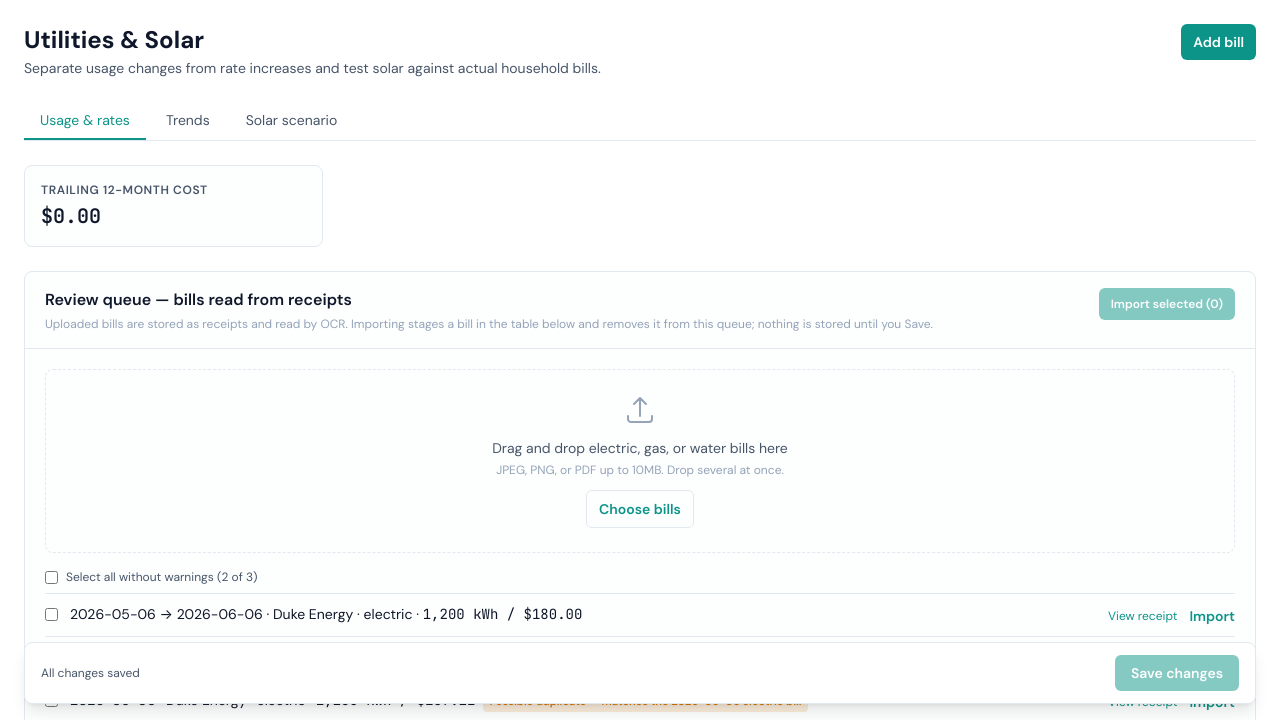
Test: utilities bill review queue › discard reverts staged imports along with all other unsaved edits
Click the checkbox named "Select all bills without warnings".
click(52, 577)  # box [45,570,58,584]
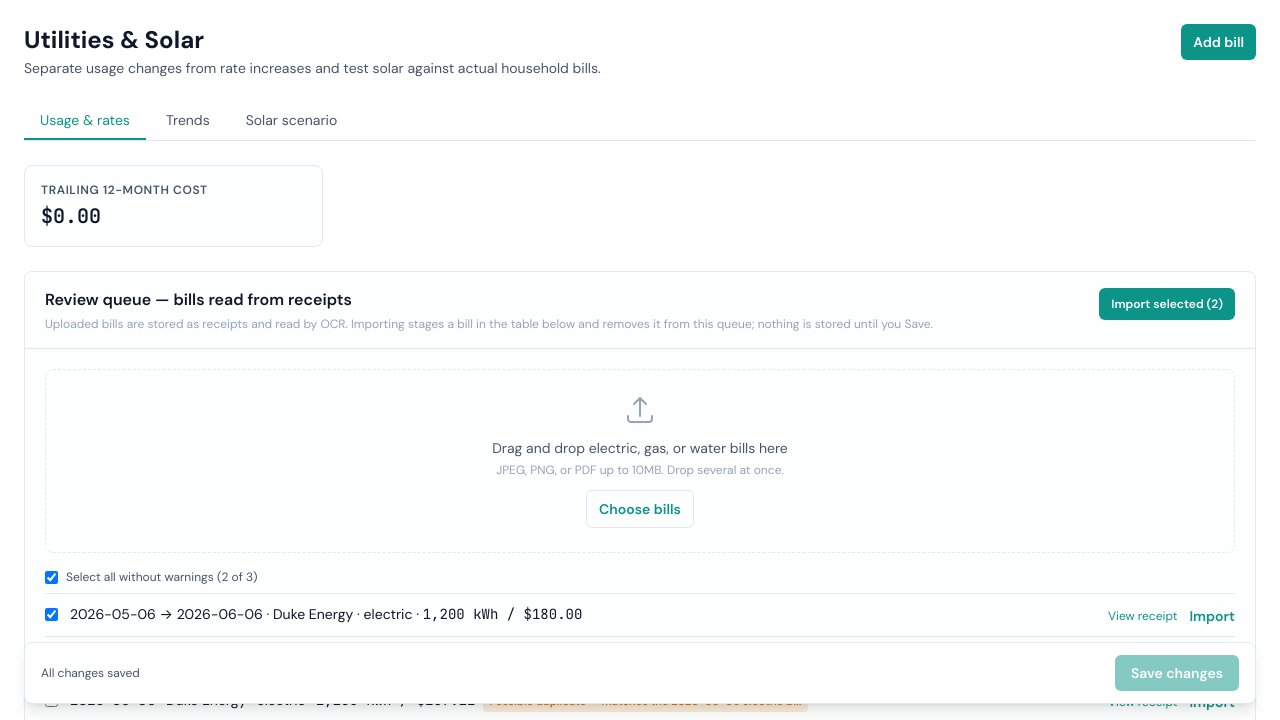
Click the button "Import selected (2)".
click(1167, 304)  # box [1099,288,1235,320]
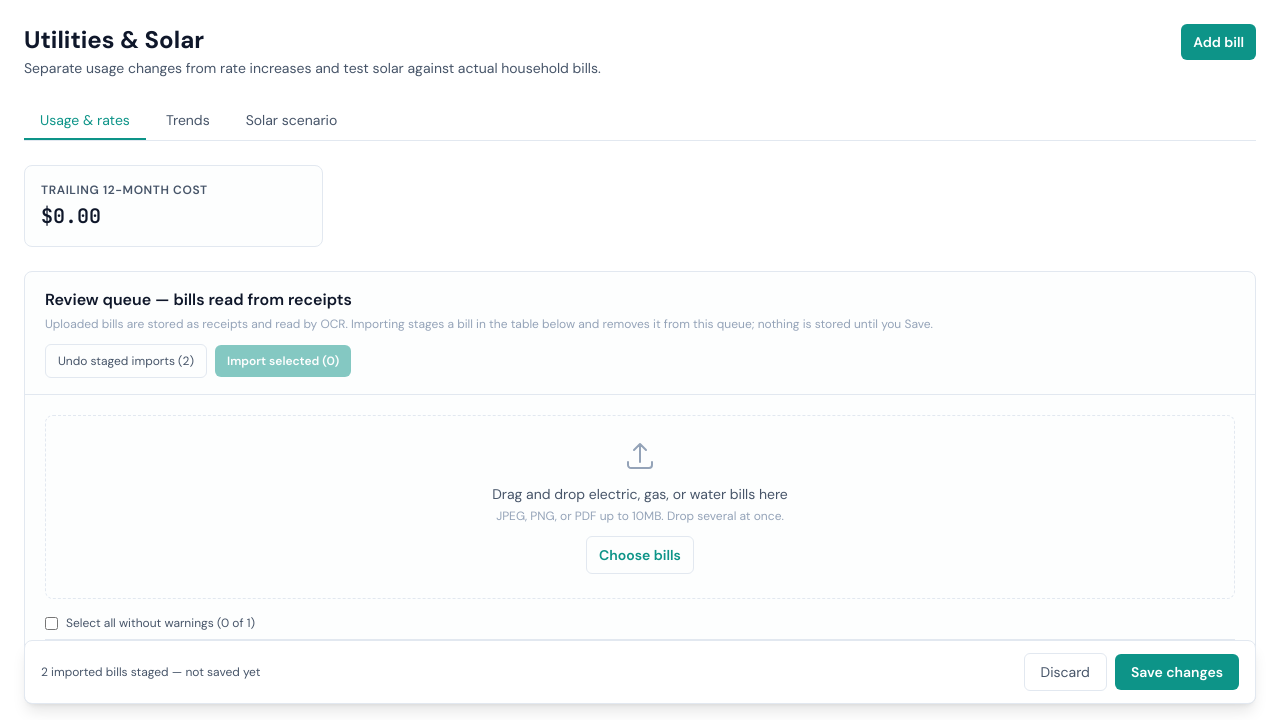
Click the button "Discard".
click(1065, 672)  # box [1024,653,1107,691]
(page scrolled)
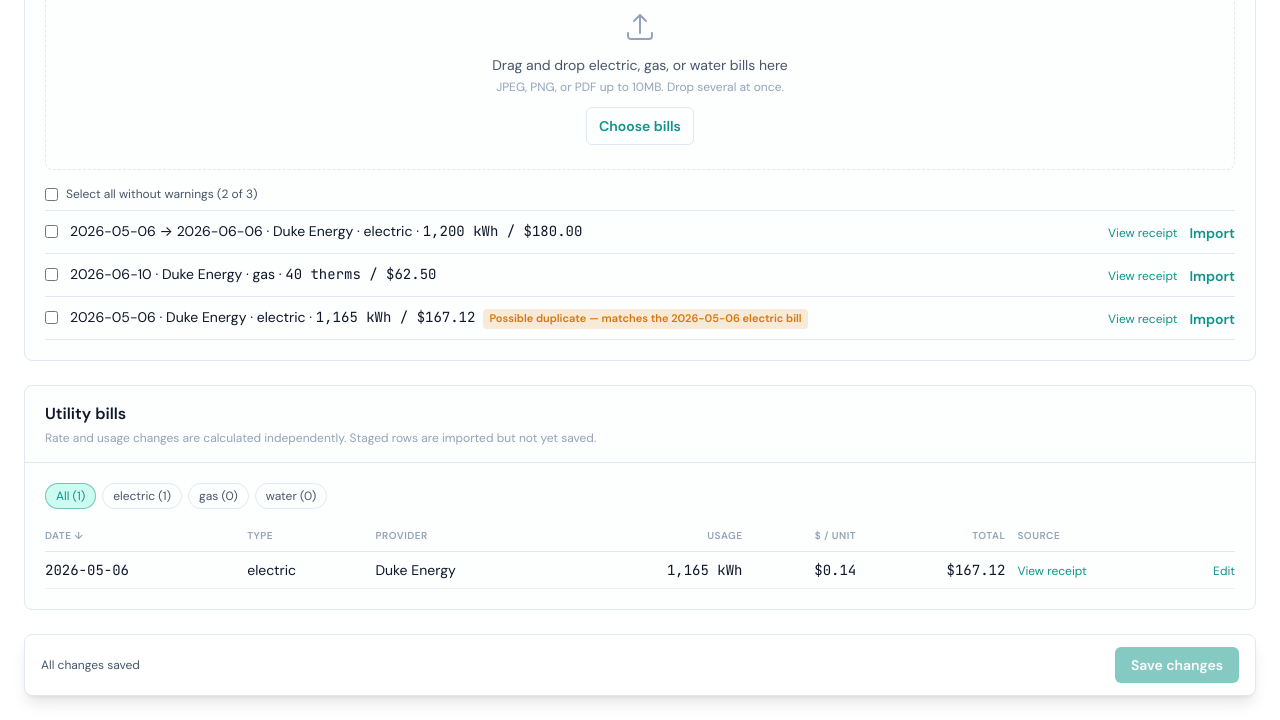
Expected: the text "Duke Energy" is shown, [375,552,570,589]
Expected: the text "Select all without warnings (2 of 3)" is shown, [45,186,1235,211]
